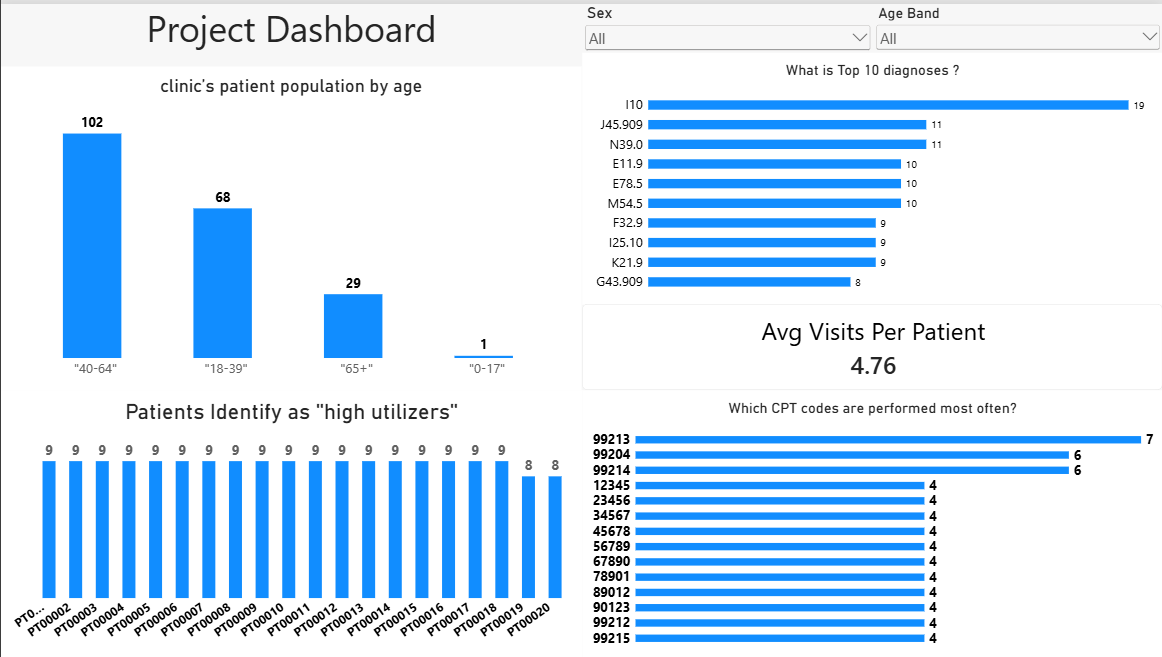

Layout of this report page (visuals, bound fields, positions):
{"tool":"powerbi","page":{"name":"Project_overview","canvas":[1920,1080],"ordinal":0},"visuals":[{"type":"barChart","title":"What is Top 10 diagnoses ?","fields":{"Category":["patient_visits.icd_code"],"Y":["CountNonNull(patient_visits.visit_id)"]},"box":[960.2,79.9,960.2,415.7],"z":0,"group":"g1"},{"type":"columnChart","title":"clinic’s patient population by age","fields":{"Category":["patient_visits.Age Band"],"Y":["CountNonNull(patient_visits.visit_id)"]},"box":[0,102.9,959.2,535.2],"z":0},{"type":"textbox","box":[0,0,959.2,98.8],"z":1000},{"type":"slicer","fields":{"Values":["patient_visits.patient_sex"]},"box":[960.2,0,481.1,76.7],"z":1000,"group":"g1"},{"type":"group","id":"g1","title":"Group 1","box":[960.2,0,960.2,495.6],"z":2000},{"type":"slicer","fields":{"Values":["patient_visits.Age Band"]},"box":[1441.3,0,479.1,76.7],"z":2000,"group":"g1"},{"type":"columnChart","title":"Patients Identify as  \"high utilizers\"","fields":{"Category":["patient_visits.patient_id"],"Y":["CountNonNull(patient_visits.visit_date)"]},"box":[0,638.1,960.2,441.9],"z":3000},{"type":"cardVisual","fields":{"Data":["patient_visits.Avg Visits Per Patient"]},"box":[960.2,495.6,960.2,142.5],"z":3001},{"type":"barChart","title":"Which CPT codes are performed most often?","fields":{"Category":["patient_visits.cpt_code"],"Y":["patient_visits.Procedure Count"]},"box":[960.2,638.1,960.2,441.9],"z":3002}]}

Visuals, with their boxes in screenshot pixels (x1, y1, x2, y2), scaled from the page's 1920x1080 canvas onto the 1162x657 screenshot:
"What is Top 10 diagnoses ?" barChart: x1=581, y1=49, x2=1161, y2=301
"clinic’s patient population by age" columnChart: x1=0, y1=63, x2=581, y2=388
textbox: x1=0, y1=0, x2=581, y2=60
slicer - patient_visits.patient_sex: x1=581, y1=0, x2=872, y2=47
"Group 1" group: x1=581, y1=0, x2=1161, y2=301
slicer - patient_visits.Age Band: x1=872, y1=0, x2=1161, y2=47
"Patients Identify as  "high utilizers"" columnChart: x1=0, y1=388, x2=581, y2=656
cardVisual - patient_visits.Avg Visits Per Patient: x1=581, y1=301, x2=1161, y2=388
"Which CPT codes are performed most often?" barChart: x1=581, y1=388, x2=1161, y2=656
